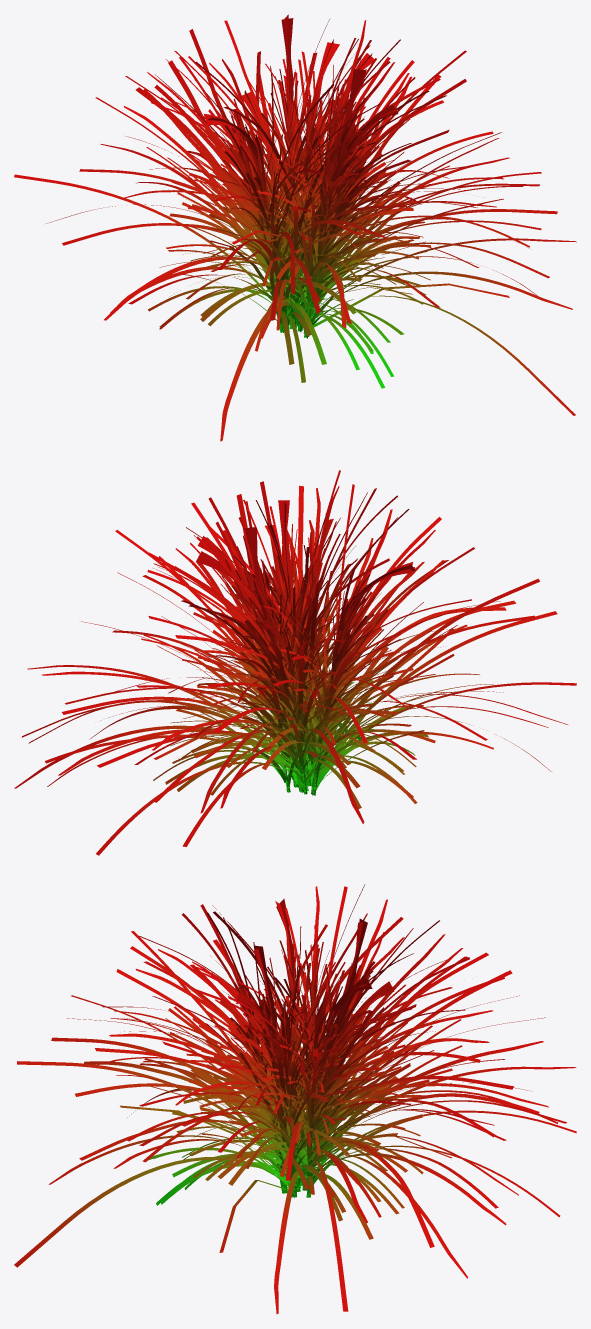
Rendered from slfpffjr_Var3_LOD0.fbx.
The picture shows the model from 3 angles, top to bottom: view 1: azimuth 30°, elevation 25°; view 2: azimuth 150°, elevation 25°; view 3: azimuth 270°, elevation 25°; orthographic projection.
Visible parts, largest first — view 1: _139f_Var3_LOD0; view 2: _139f_Var3_LOD0; view 3: _139f_Var3_LOD0.
Part boxes in pixels (box(x1,y1,x2,y2)): _139f_Var3_LOD0: box(14, 14, 576, 441); _139f_Var3_LOD0: box(14, 470, 576, 855); _139f_Var3_LOD0: box(14, 884, 576, 1313).
Bounding box in the file's own units: 72.09 × 42.58 × 73.16.
